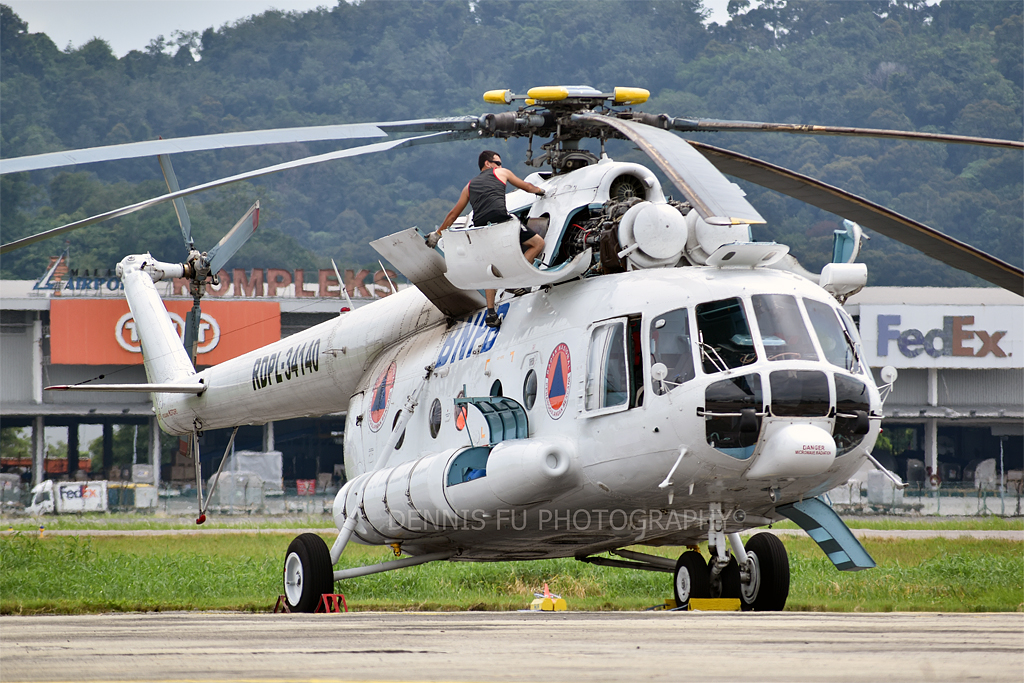number: (249, 333, 325, 392)
